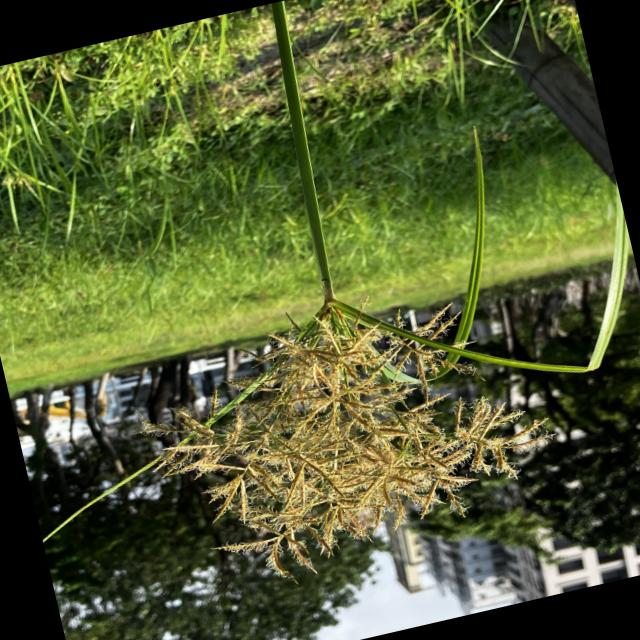cyperus: (115, 255, 582, 621)
